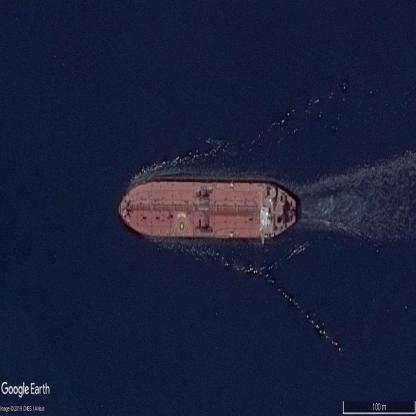ship: (119, 177, 298, 243)
